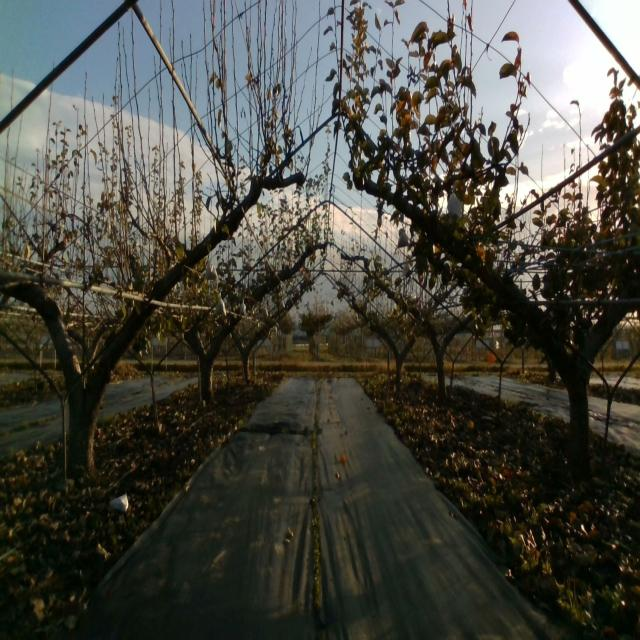pearbags: (447, 192, 463, 219), (214, 292, 226, 316), (204, 261, 218, 281), (397, 226, 409, 248)
